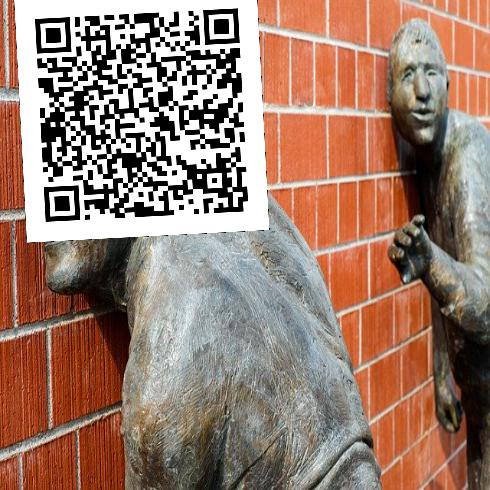qr_code: (14, 0, 269, 248)
